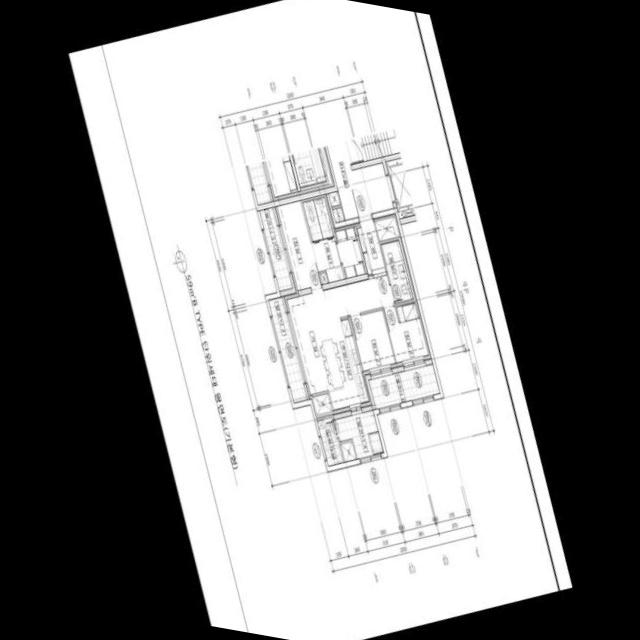background: (68, 0, 572, 640)
space_balconi: (268, 297, 306, 402), (368, 364, 439, 409), (259, 207, 292, 291), (334, 410, 383, 458)
space_bedroom: (274, 200, 321, 290), (383, 301, 431, 366), (350, 310, 396, 374)
space_dressroom: (333, 224, 365, 278)
space_elevator: (385, 158, 414, 219)
space_elevator_hall: (327, 141, 393, 220)
space_front: (354, 219, 385, 276)
space_kitchen: (312, 317, 371, 414)
space_living_room: (283, 275, 393, 399)
space_other: (374, 213, 400, 241), (311, 393, 333, 418), (340, 441, 355, 461), (332, 207, 344, 222), (328, 191, 339, 206), (320, 273, 327, 284)
space_outdoor_room: (317, 417, 343, 466)
space_staircase: (346, 128, 399, 164)
space_toilet: (302, 197, 344, 282), (380, 240, 413, 303)
